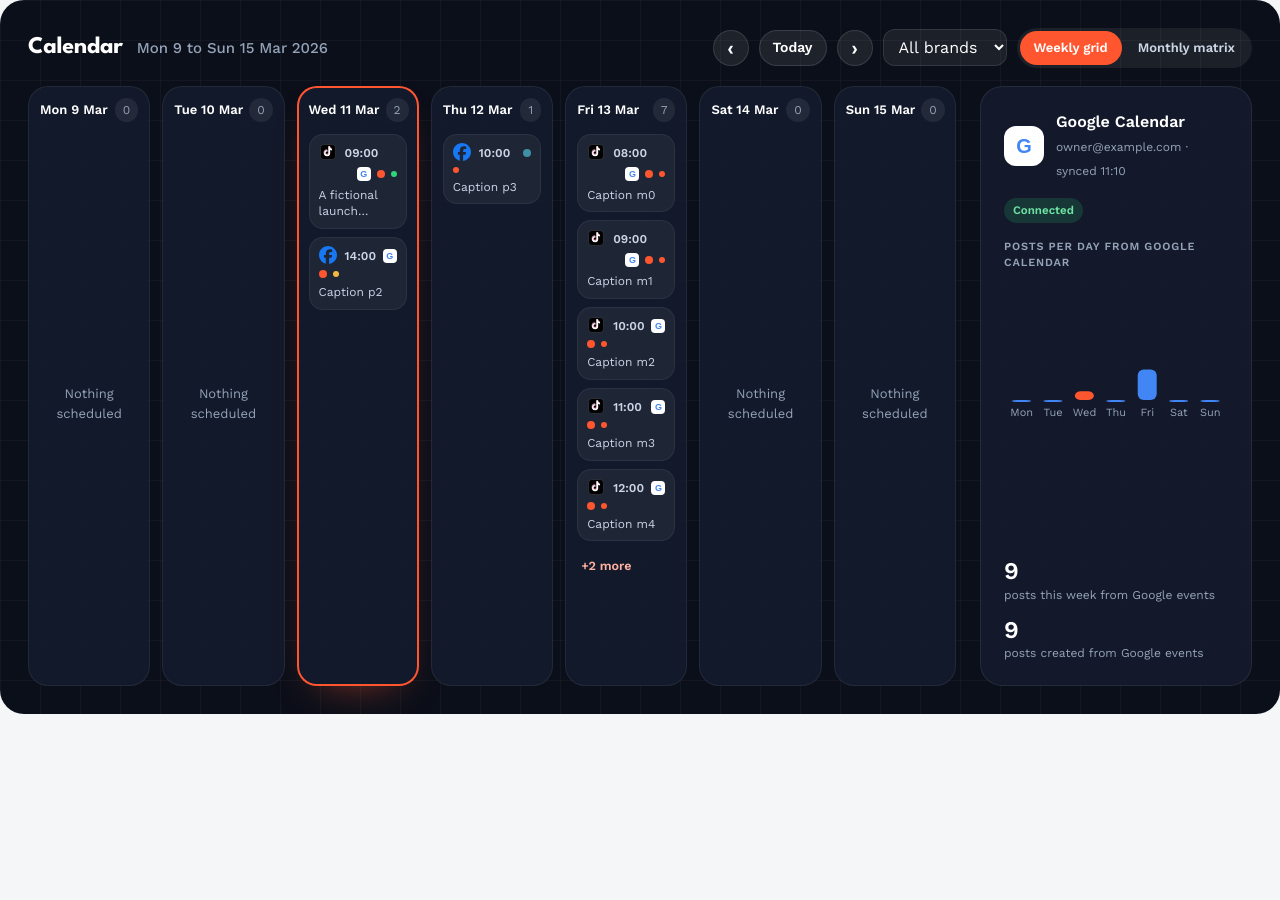
Test: monthly matrix › moves a month at a time
What coordinates should you click on to do the following:
click the button "Monthly matrix"
I would click on:
 (1186, 48)
Its box is [1124,31,1249,64].
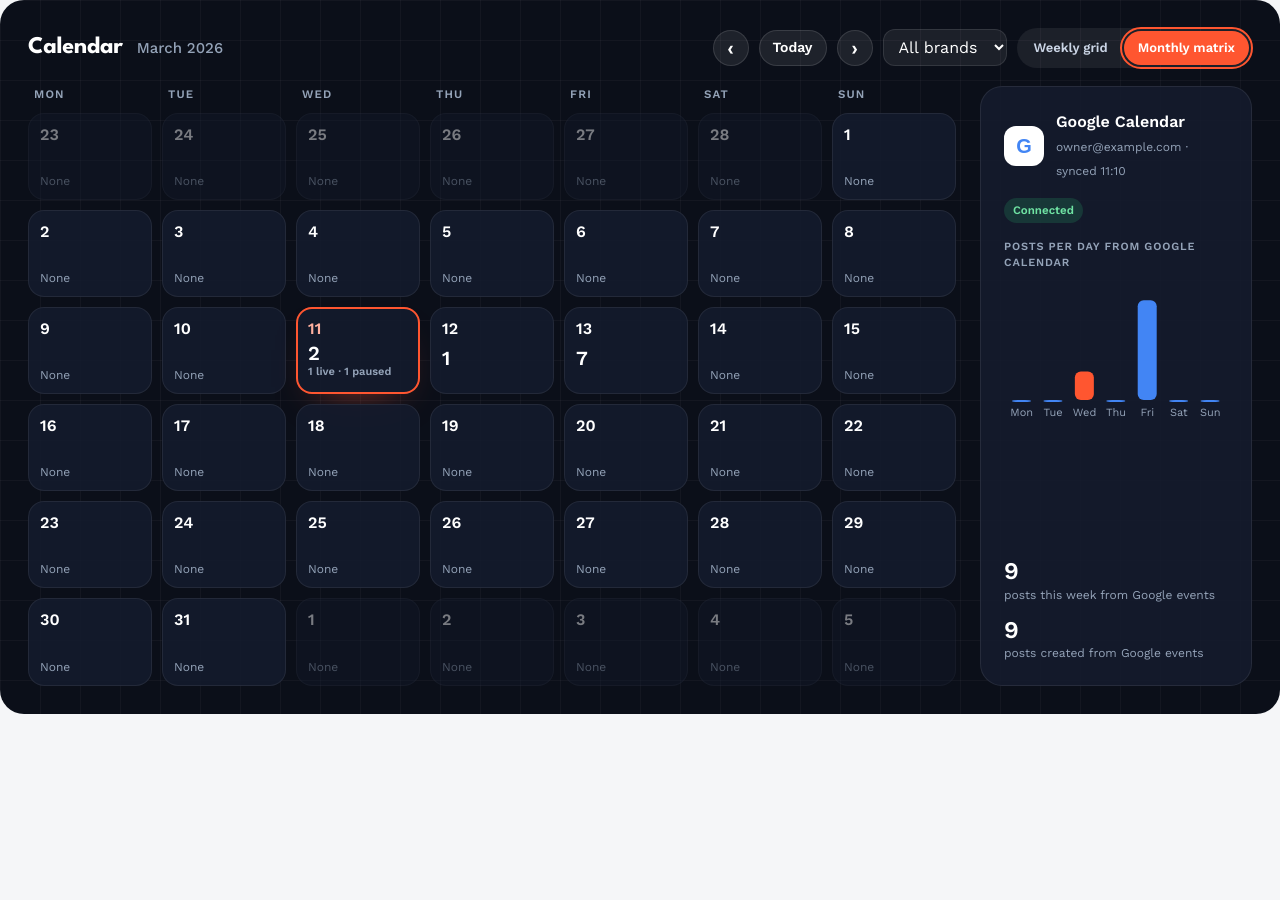
What coordinates should you click on to do the following:
click the button named "next month"
I would click on:
 (854, 48)
Its box is [836,30,872,66].
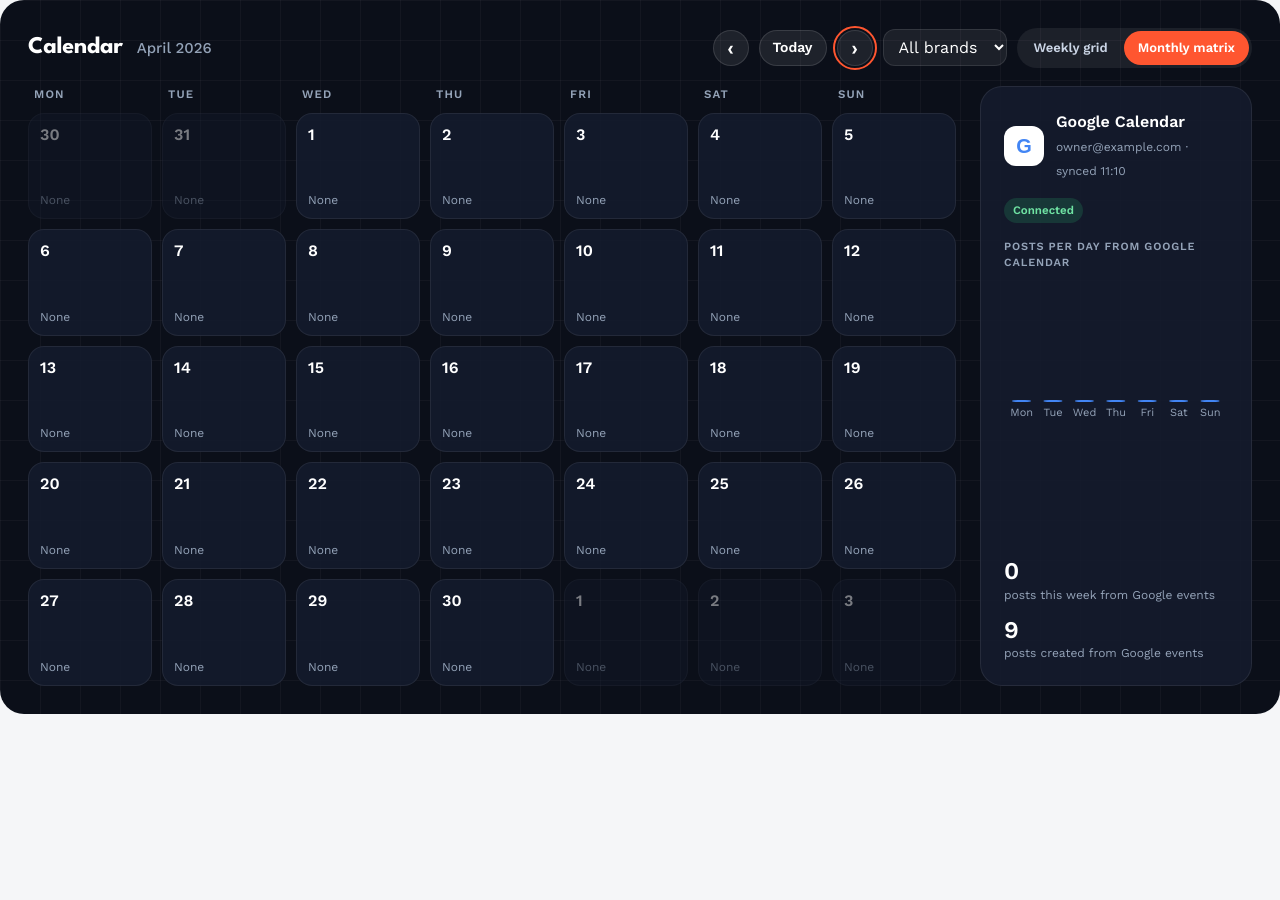
Expected: the text "April 2026" is shown, [137,37,212,60]
